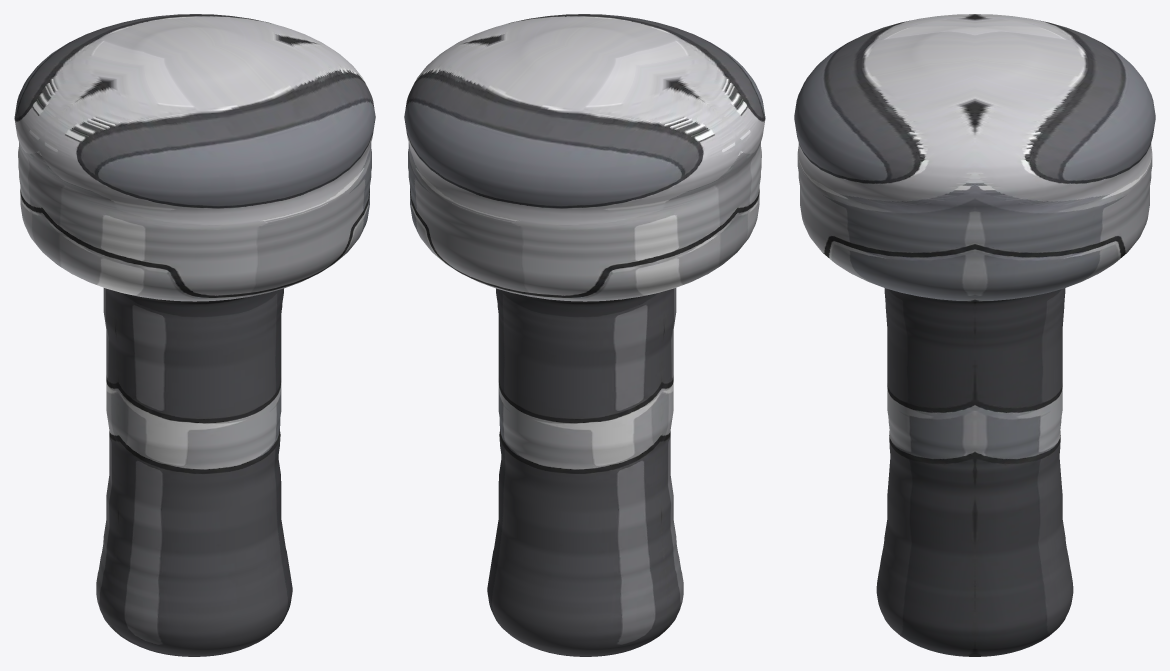
Rendered from capped_post.glb.
3 renders of one model, left to right at view 1: azimuth 30°, elevation 25°; view 2: azimuth 150°, elevation 25°; view 3: azimuth 270°, elevation 25°, orthographic.
Parts seen in each view (by area): view 1: capped_post; view 2: capped_post; view 3: capped_post.
Part boxes in pixels (x1,y1,x2,y2): capped_post: (14,14,375,656); capped_post: (404,14,765,656); capped_post: (794,14,1155,656).
Bounding box in the file's own units: 0.9988 × 1.8 × 0.9988.
1 material, 1 textured.
